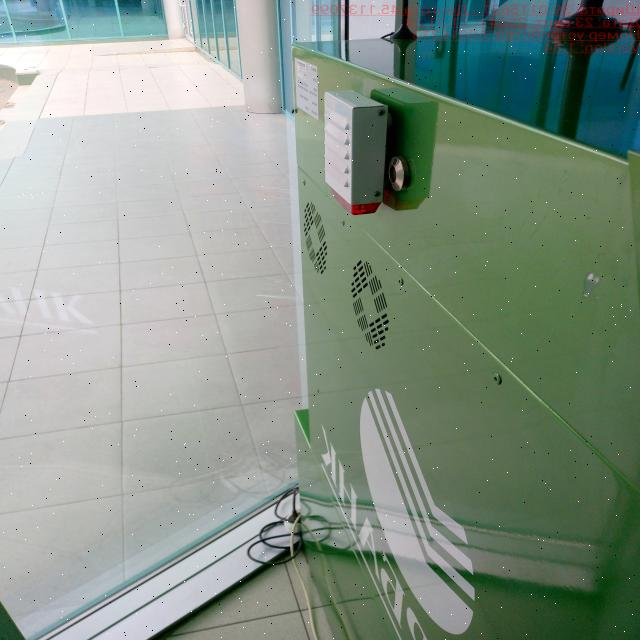bank: (285, 25, 640, 640)
